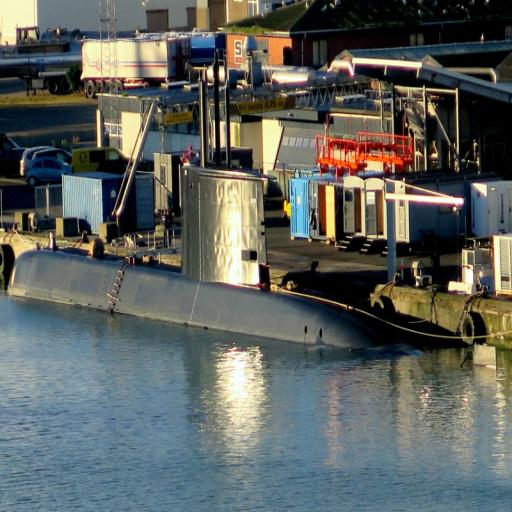submarine: (2, 162, 426, 359)
